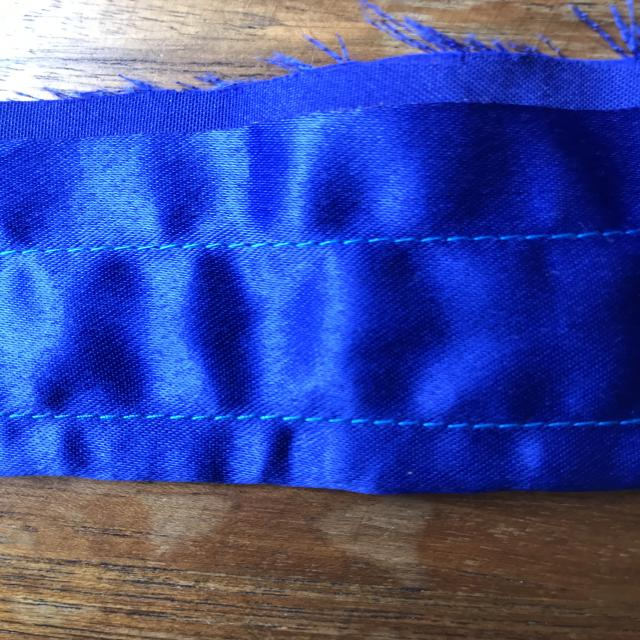good: (206, 393, 530, 464), (195, 226, 446, 264)
